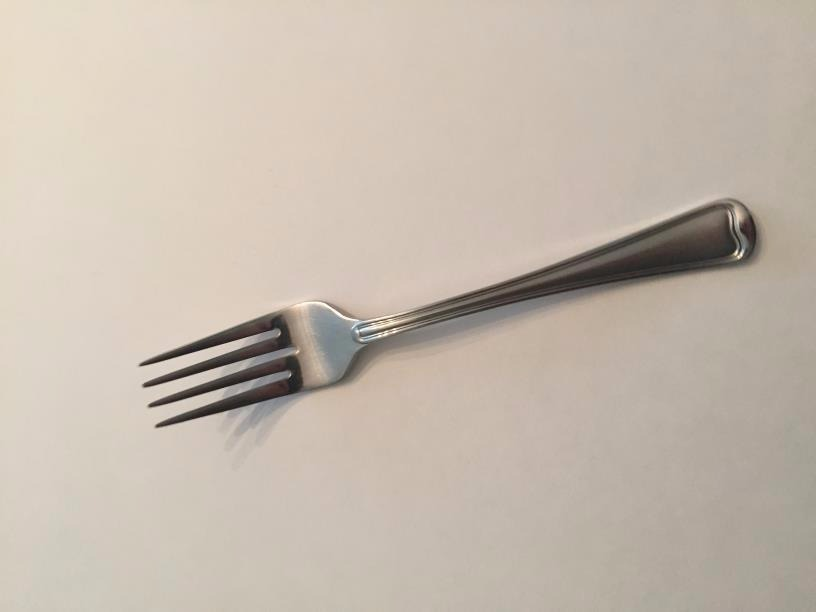fork: (115, 180, 783, 458)
